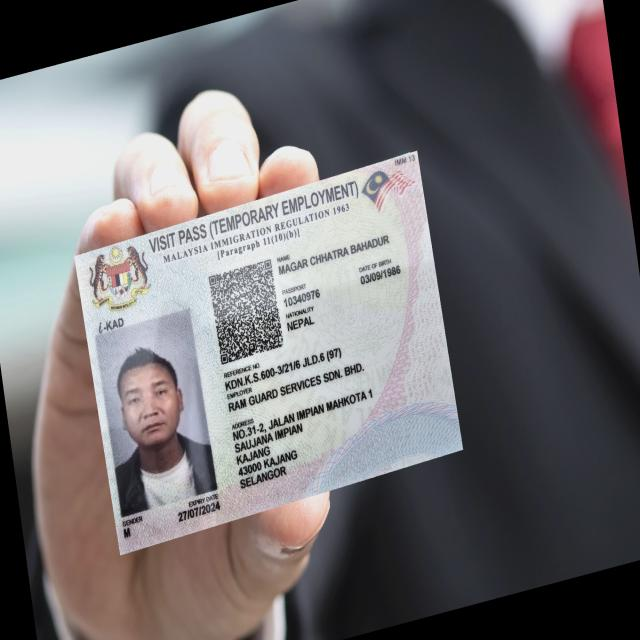ikad-temp: (73, 148, 464, 556)
